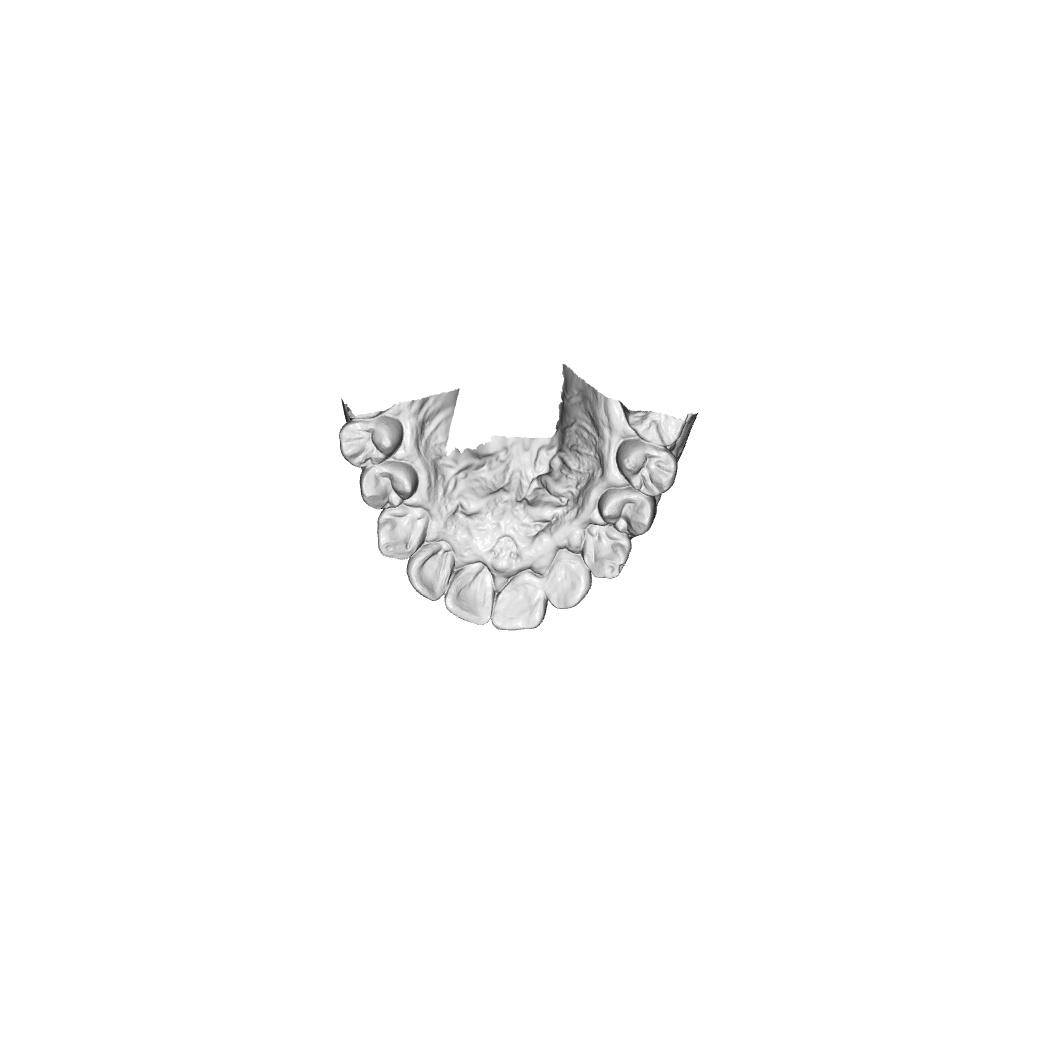canine: (373, 504, 432, 561), (582, 522, 633, 580)
incisor: (442, 560, 499, 627), (490, 567, 548, 632), (405, 539, 457, 603), (544, 546, 593, 610)
molar: (625, 409, 687, 448)
premolar: (615, 438, 679, 497), (337, 415, 404, 469), (596, 487, 659, 539), (359, 460, 420, 511)
